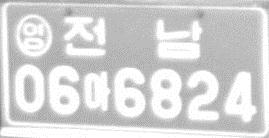0: (13, 63, 46, 114)
2: (184, 68, 220, 121)
4: (223, 71, 257, 122)
6: (46, 64, 81, 116), (112, 65, 146, 118)
8: (148, 68, 183, 120)
아: (83, 70, 111, 113)
영: (14, 13, 53, 58)
전남_D: (61, 15, 203, 60)
